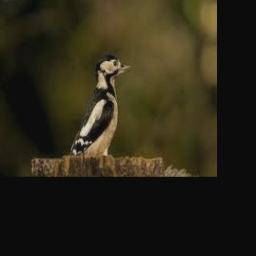Woodpecker: (70, 55, 132, 156)
